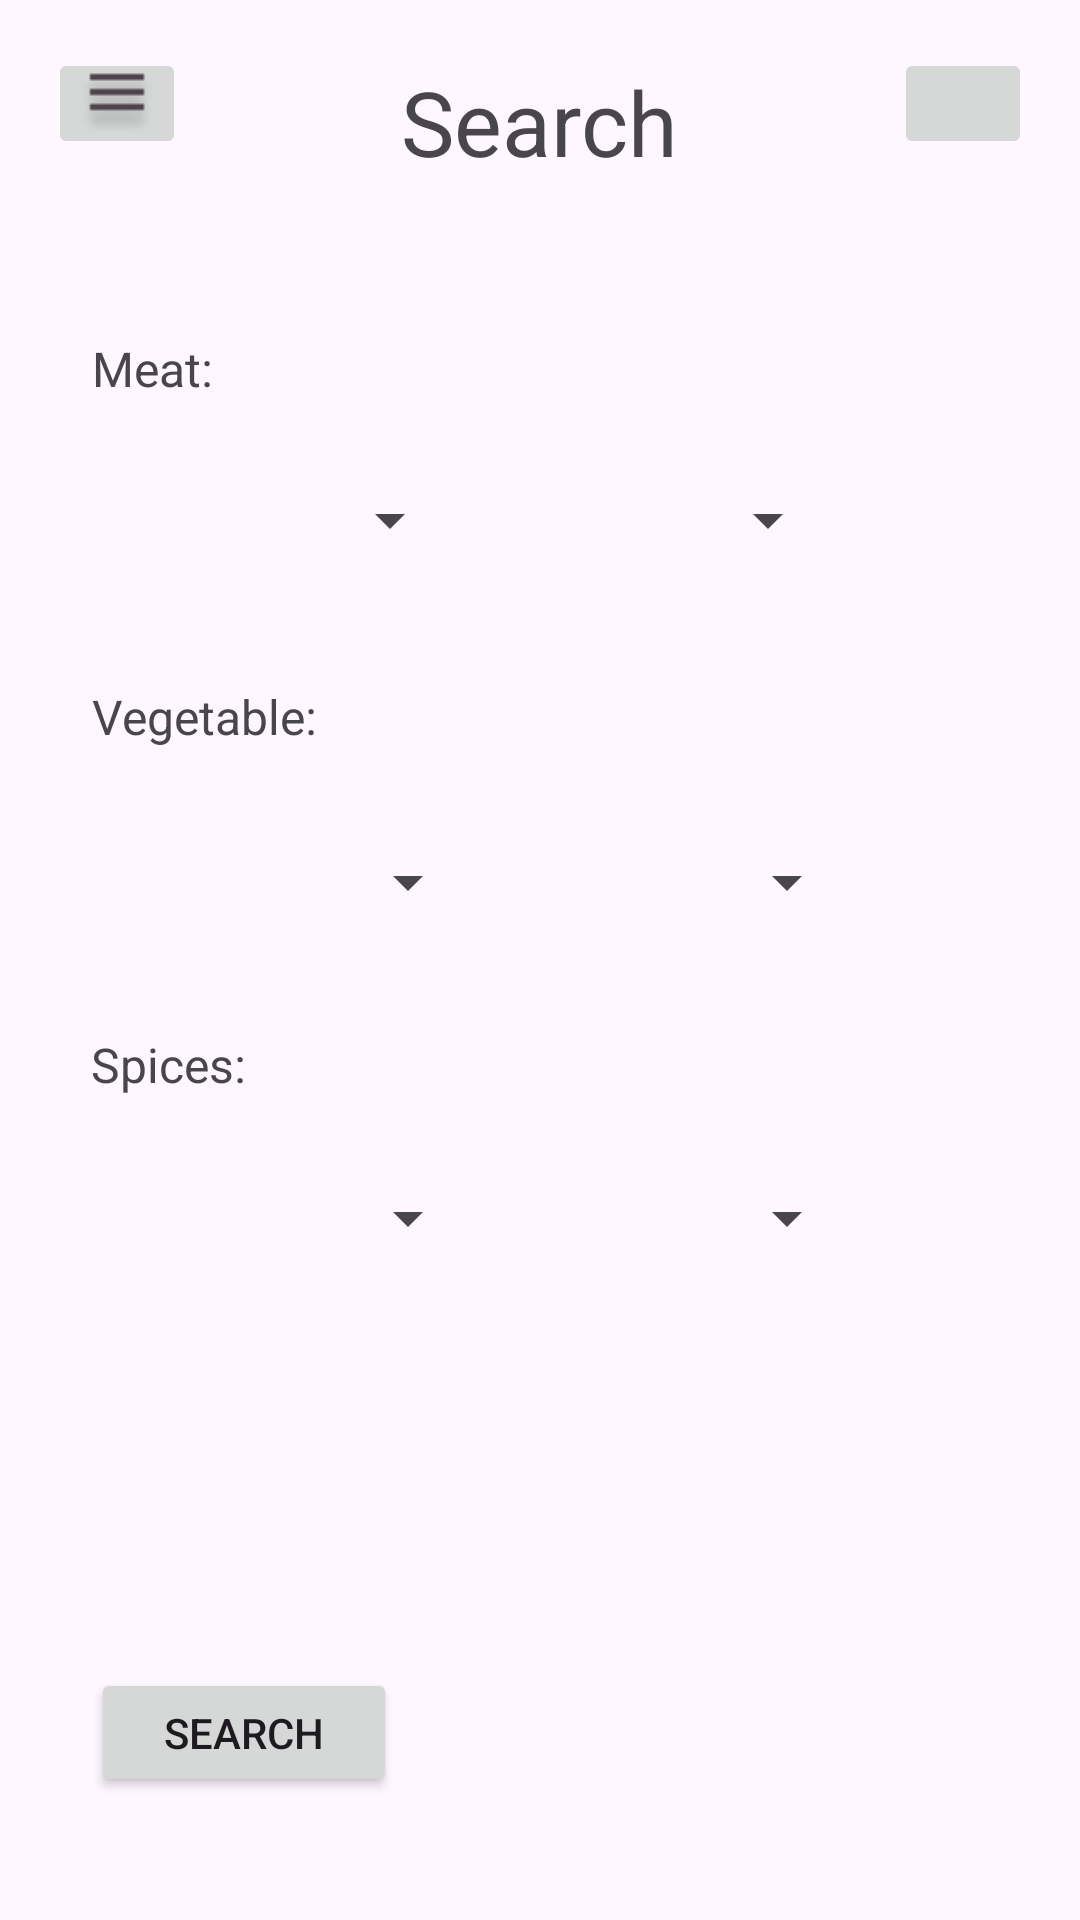

Icon bounding boxes for this 1080w x 1920h phone screenshot, format box(x1, y1, x2, y2):
Hamburger menu button icon nav bar: box(60, 66, 174, 141)
